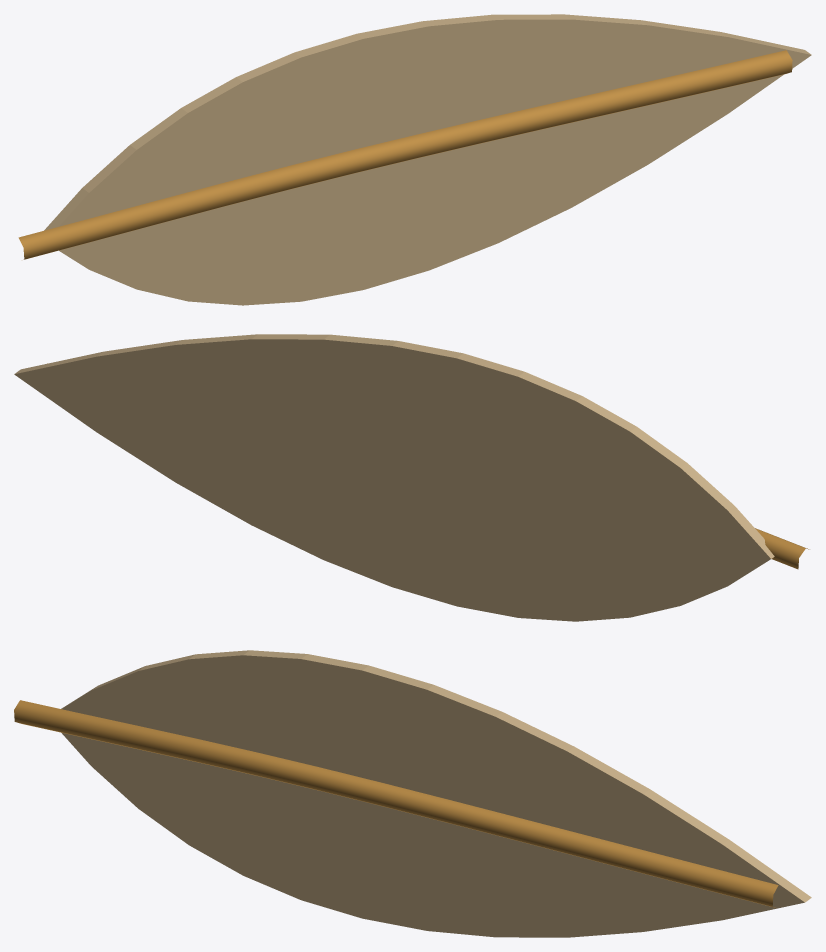
File: mia-leaves.glb
3 renders of one model, top to bottom at view 1: azimuth 30°, elevation 25°; view 2: azimuth 150°, elevation 25°; view 3: azimuth 330°, elevation 25°, orthographic.
Visible parts, largest first — view 1: Body_canvas, Body_hay-mid; view 2: Body_canvas, Body_hay-mid; view 3: Body_canvas, Body_hay-mid.
Part boxes in pixels (x1,y1,x2,y2): Body_canvas: [44, 14, 811, 305]; Body_hay-mid: [18, 50, 792, 259]; Body_canvas: [14, 334, 774, 621]; Body_hay-mid: [47, 363, 809, 569]; Body_canvas: [61, 650, 811, 937]; Body_hay-mid: [14, 700, 778, 907].
Size of the model in its own units: 0.1192 by 0.036 by 0.0075.
